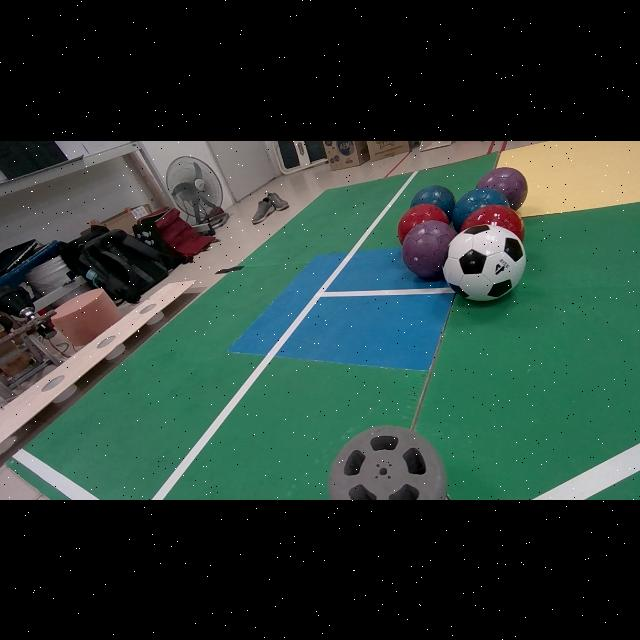B: (452, 187, 509, 231), (411, 185, 456, 219)
P: (402, 219, 457, 280), (477, 166, 528, 210)
R: (460, 204, 525, 240), (398, 203, 448, 243)
